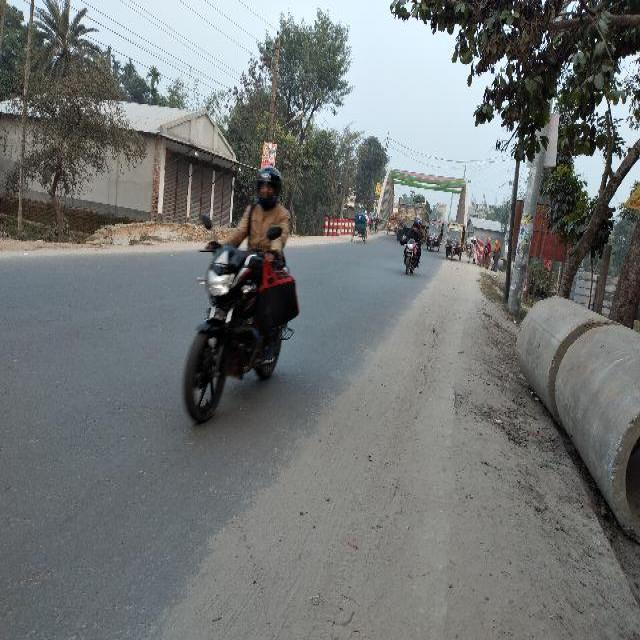bike: (176, 144, 308, 440), (401, 219, 426, 276), (468, 237, 480, 266)
vehicle: (397, 193, 432, 246), (445, 222, 465, 263), (349, 211, 369, 244), (426, 218, 442, 253), (388, 211, 398, 236)
